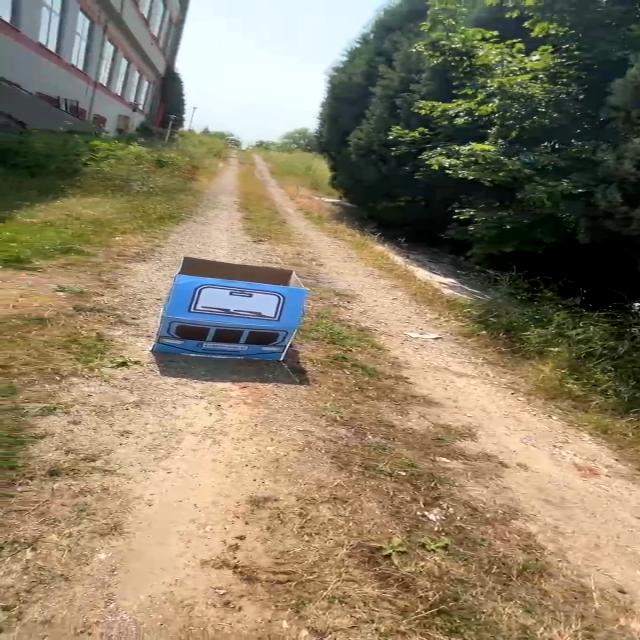blue_car: (117, 242, 329, 382)
